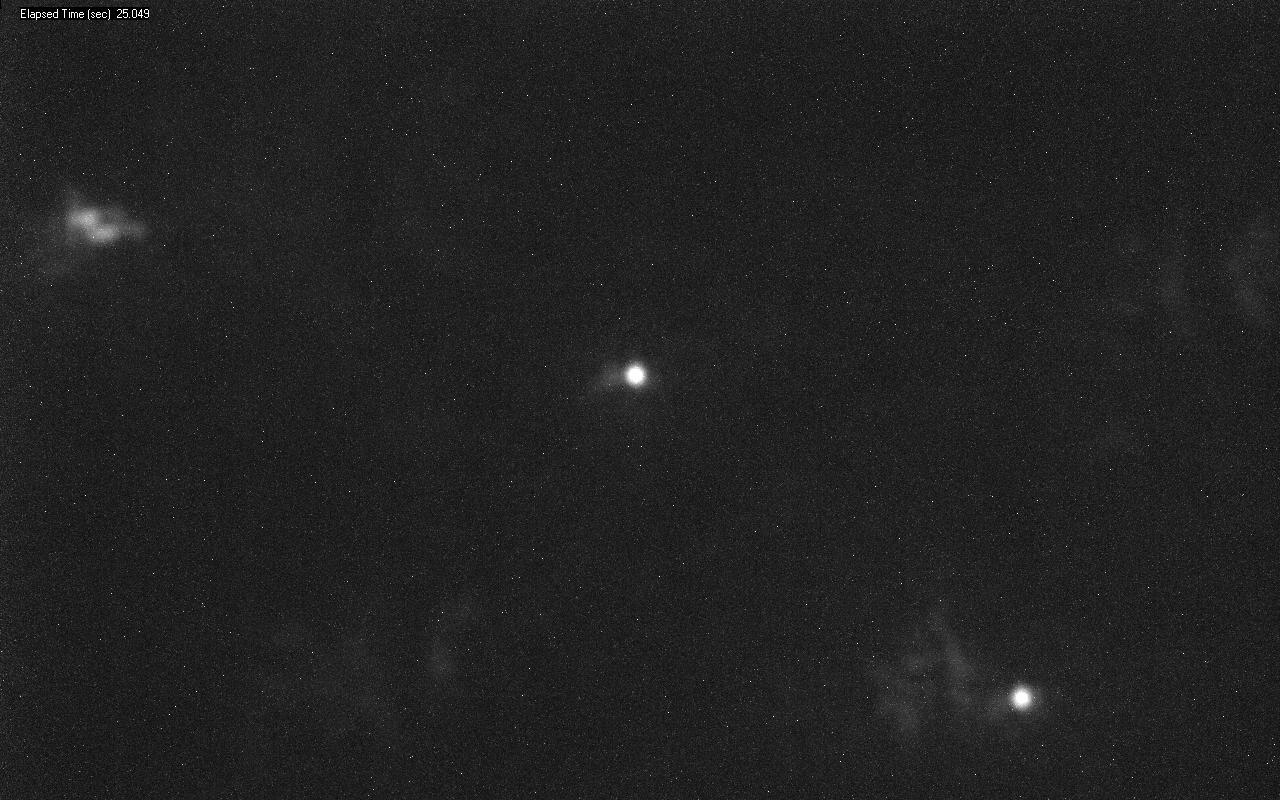Bead: (1008, 683, 1038, 713), (623, 363, 647, 386)
